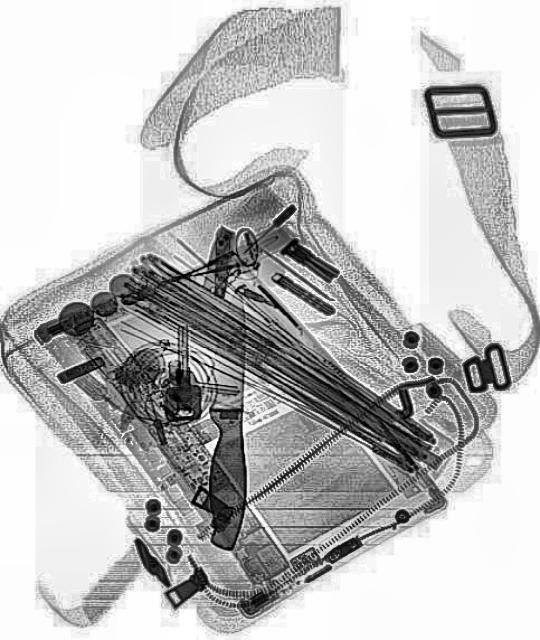Knife: (202, 290, 255, 548)
